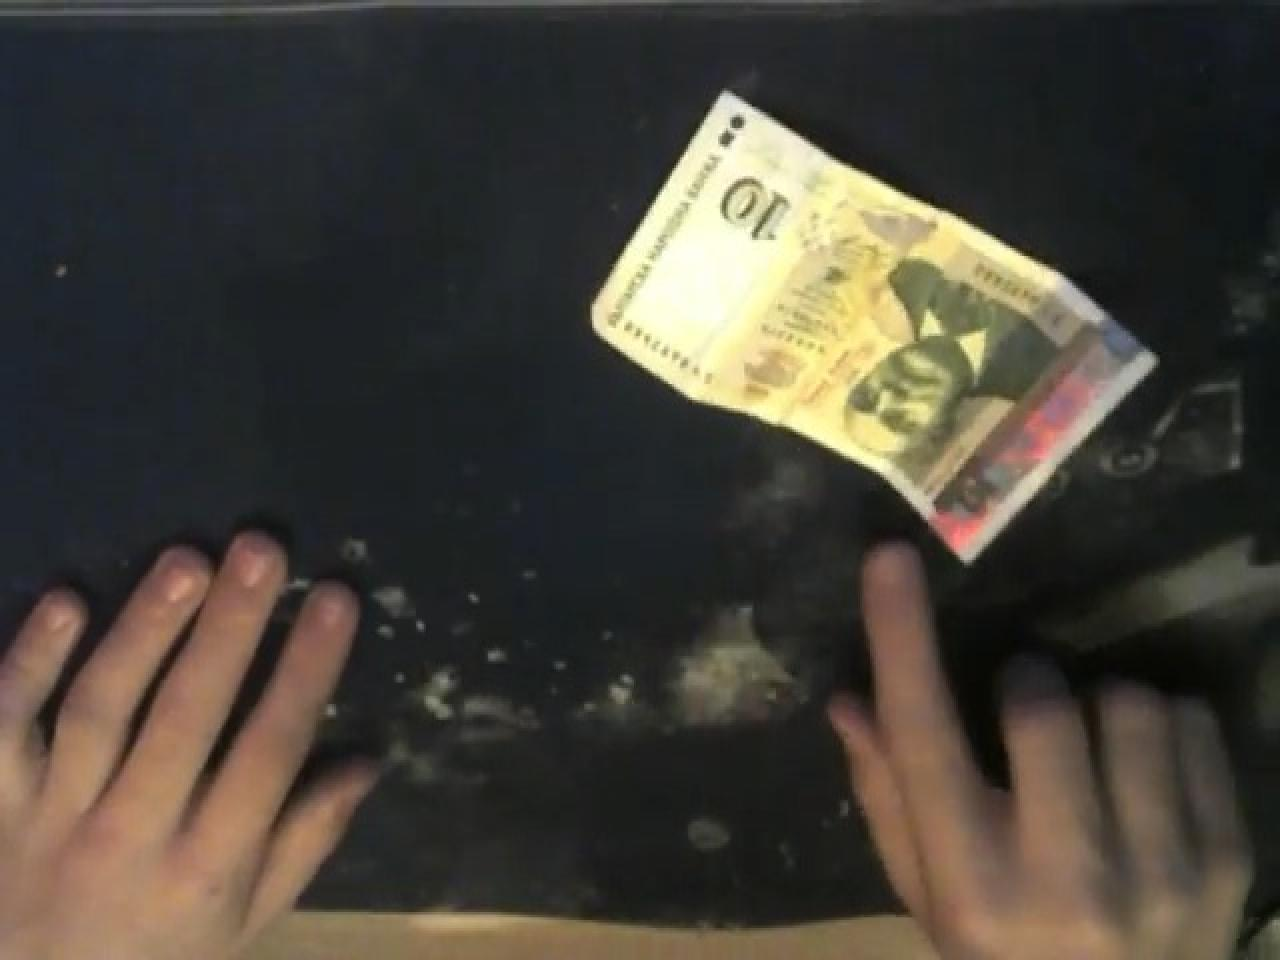10leva: (849, 255, 1062, 462), (713, 158, 800, 253)
